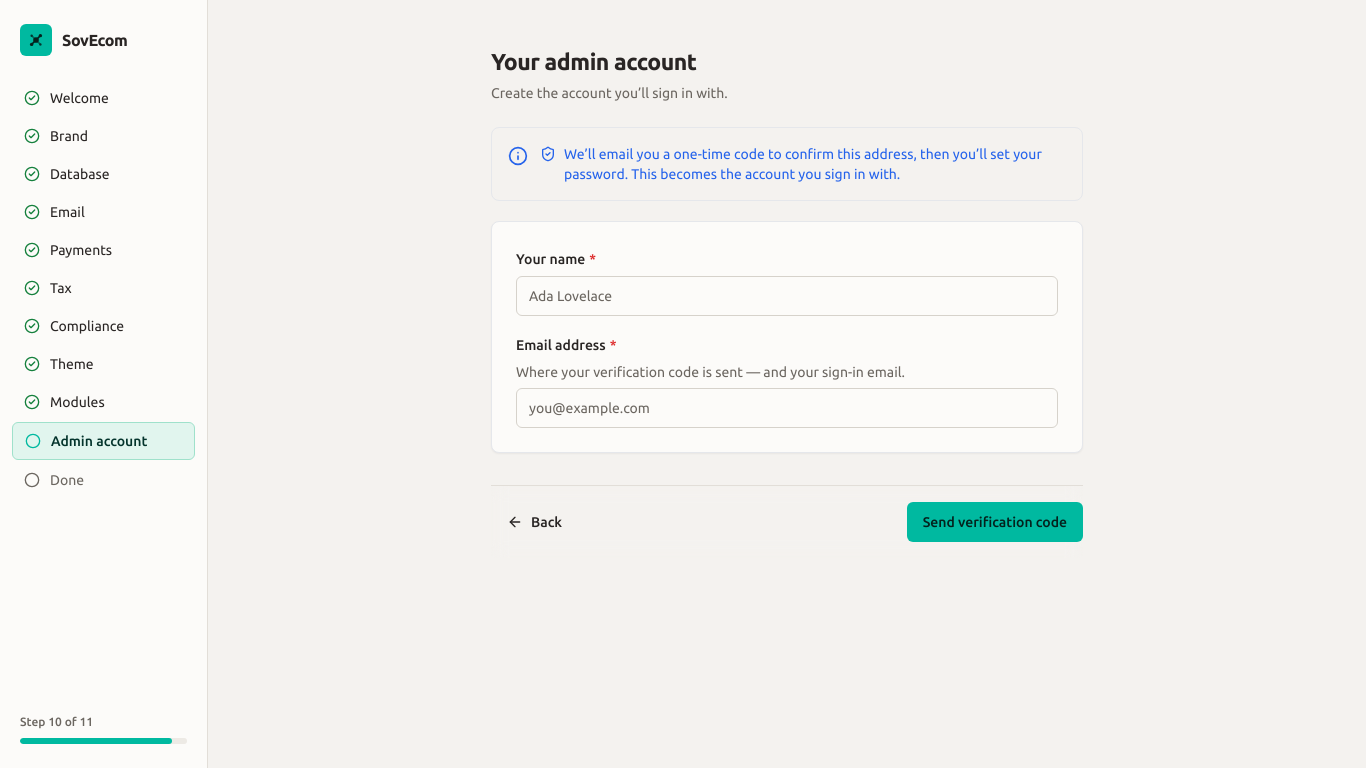
AdminAccountStep — request the code › shows a wait message on a 429 rate limit
Expected: the heading "Your admin account" is shown, [491,49,697,74]
Step 1. Type "Ada" into the field labelled "Your name*" → (787, 296), box [516,276,1058,316]
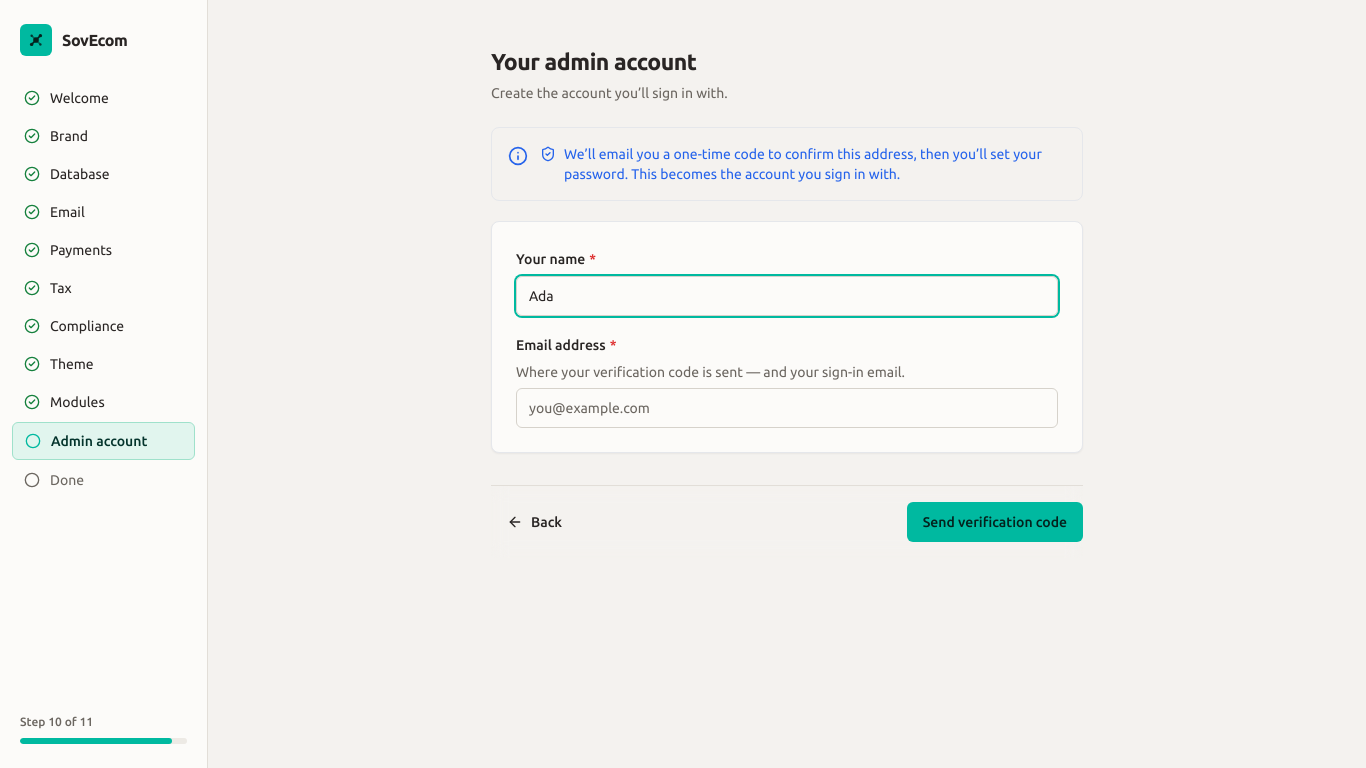
Step 2. Type "ada@example.com" into the field labelled "Email address*" → (787, 408), box [516,388,1058,428]
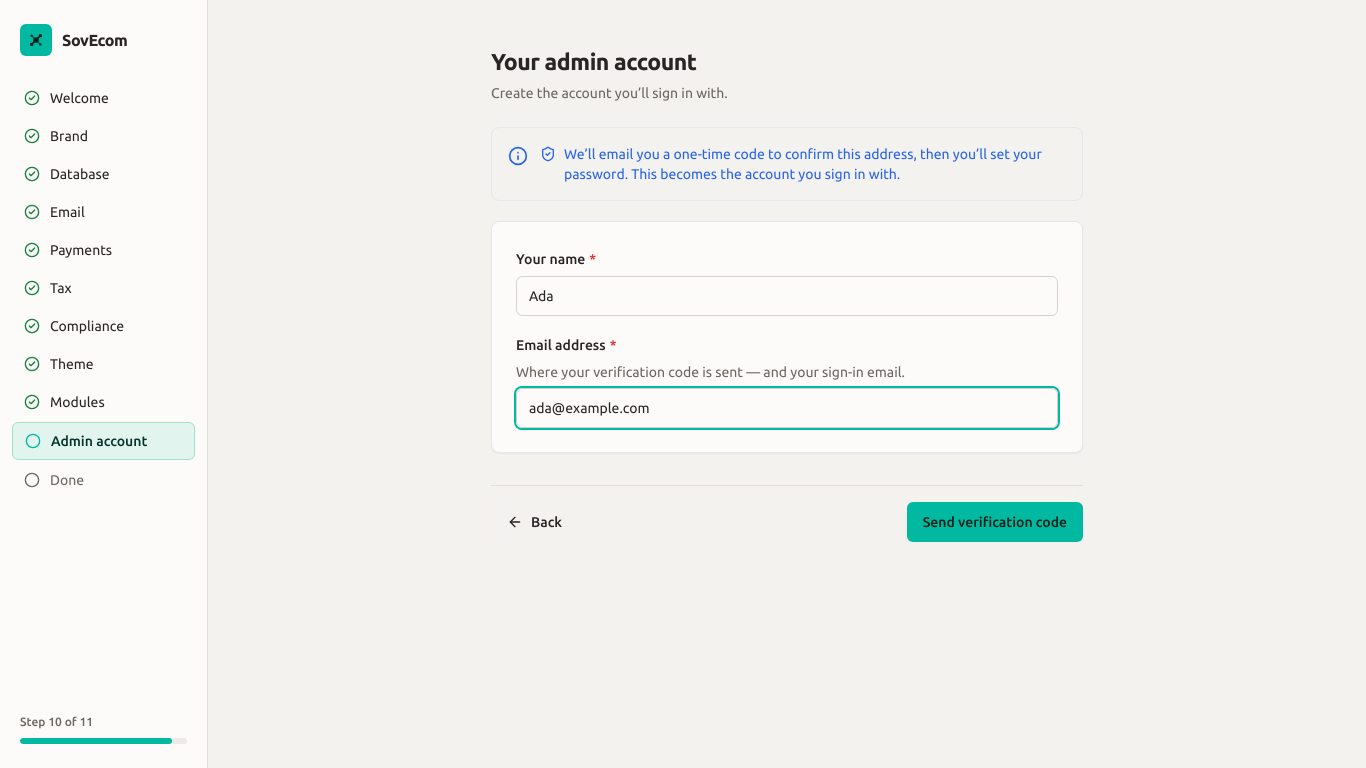
Step 3. Click the button "Send verification code" → (995, 522), box [907,502,1083,542]
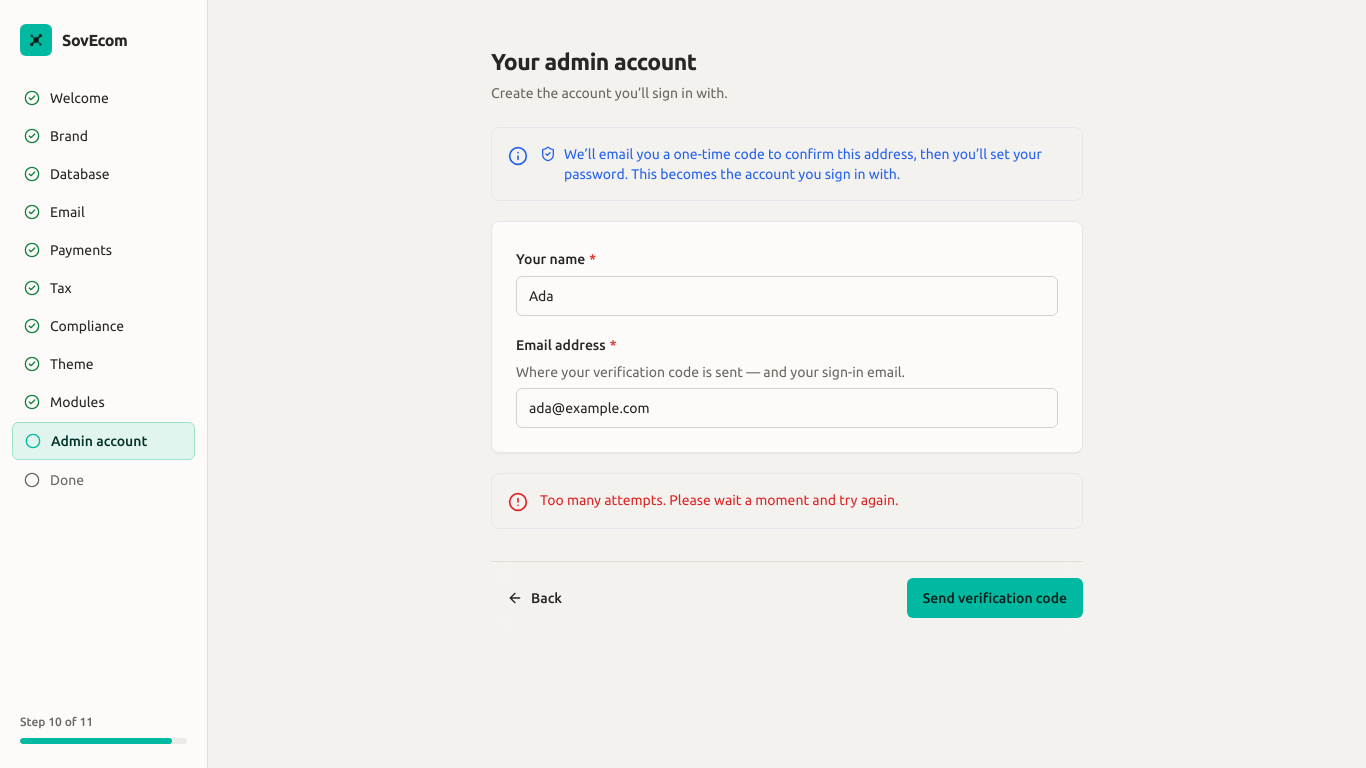
Expected: the text "Too many attempts. Please wait a moment and try again." is shown, [540,490,898,510]
